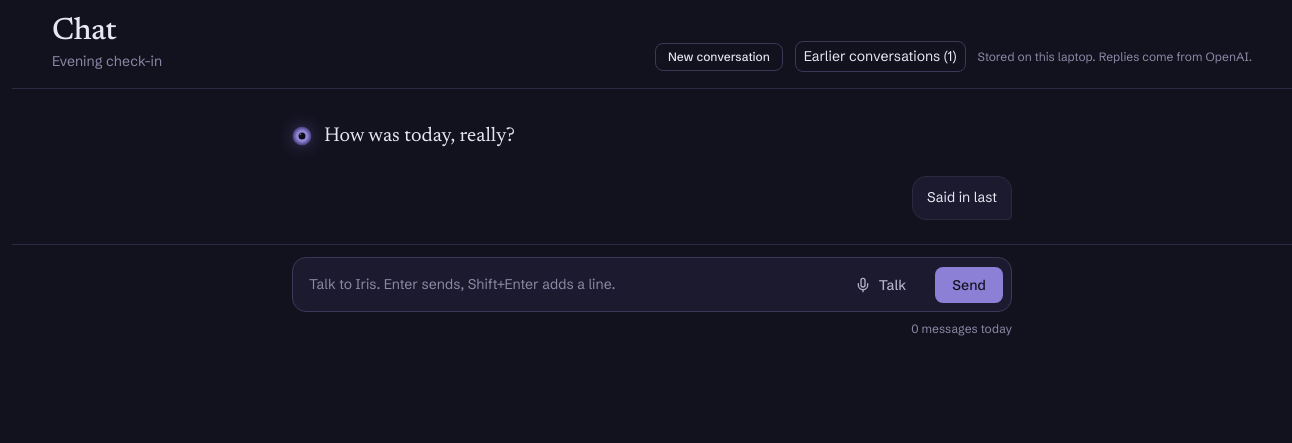
Test: lists earlier conversations and opens one to carry on
Expected: the text "Said in last" is shown, 912,176 -> 1012,220
Click the heading "Earlier conversations (1)". click: (880, 57)
box: 795,41 -> 966,72
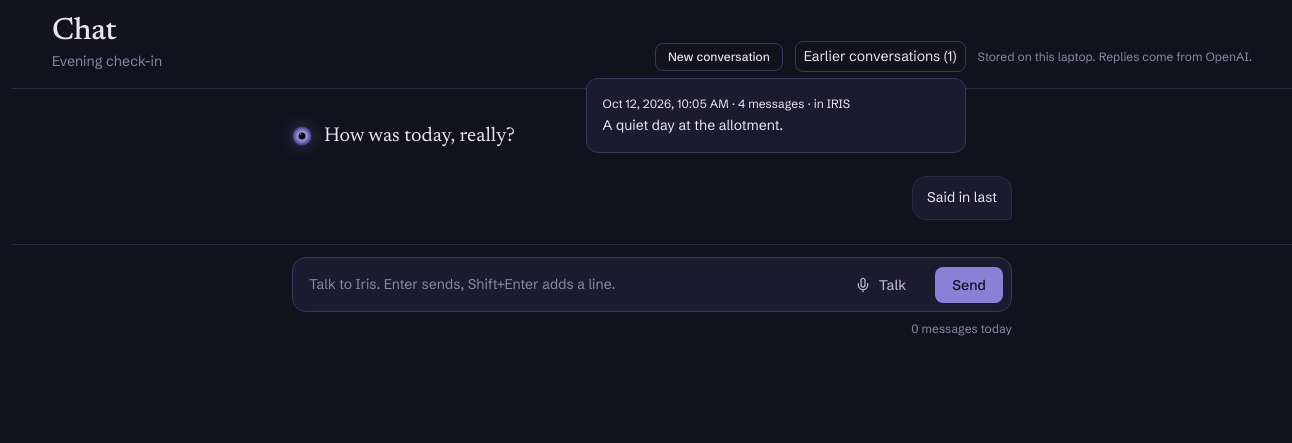
Click the text "A quiet day at the allotment.". click: (693, 126)
box: 602,115 -> 783,136
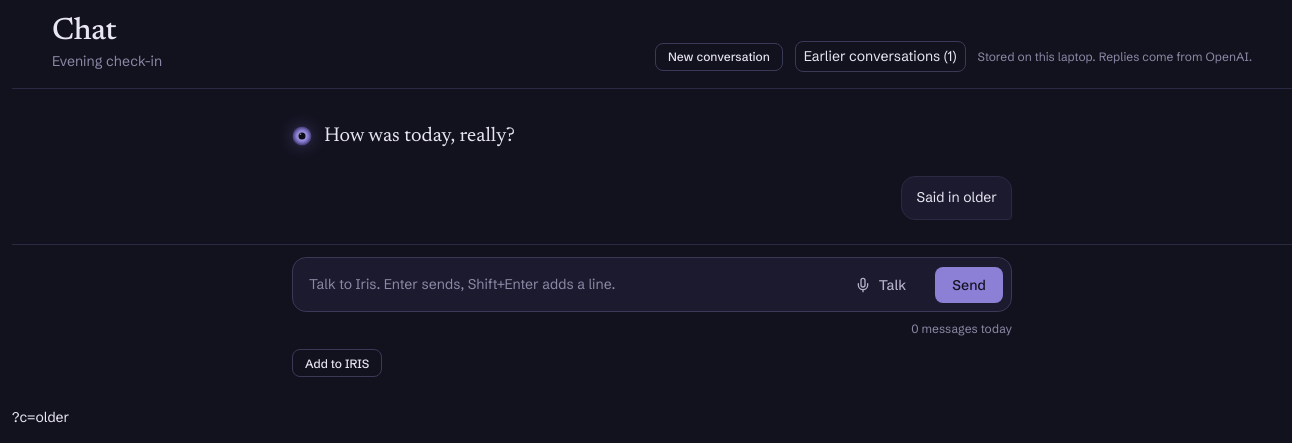
Result: the text "Said in older" is shown at 901,176 -> 1012,220
Result: the text with test id "where" reads "?c=older" at 12,408 -> 69,426
